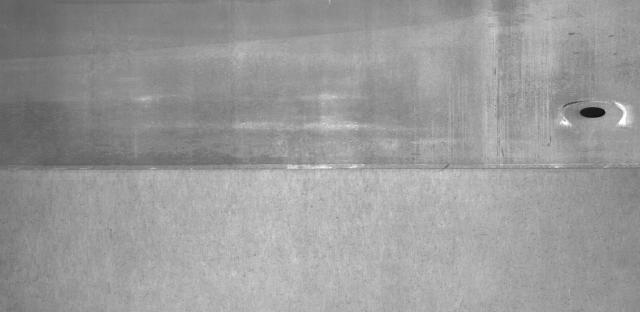punching_hole: (575, 104, 610, 120)
welding_line: (5, 156, 638, 177)
